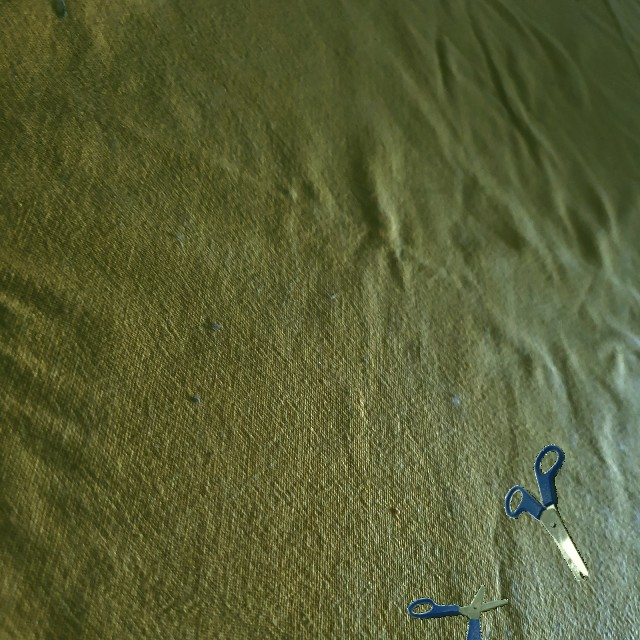scissors: (504, 444, 588, 581), (407, 585, 508, 640)
